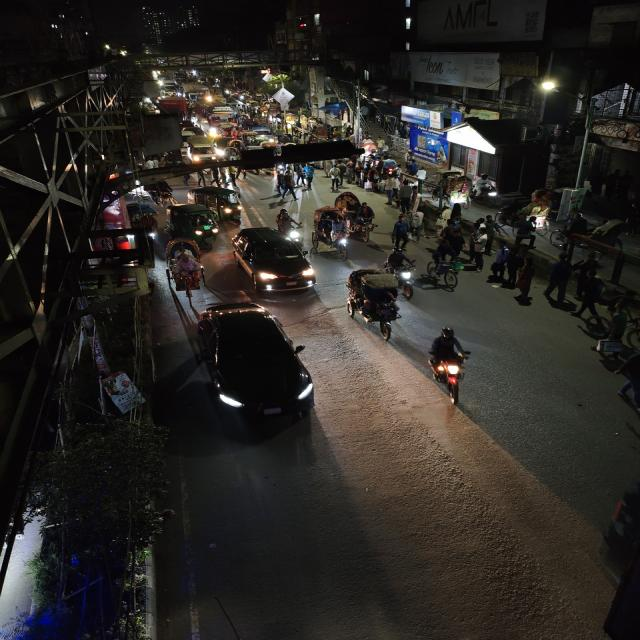bicycle: (423, 255, 460, 290)
bus: (202, 104, 236, 134)
car: (191, 300, 321, 430), (229, 226, 319, 296), (181, 124, 206, 138)
cng: (166, 202, 220, 244), (187, 184, 246, 220)
human_hauler: (187, 137, 219, 165)
motorcycle: (424, 324, 481, 409), (386, 250, 418, 296), (273, 206, 305, 242)
pedestrian: (609, 342, 640, 430), (586, 321, 640, 367), (573, 271, 610, 320), (543, 256, 575, 308), (512, 258, 542, 298), (487, 243, 512, 281), (512, 216, 540, 249), (498, 249, 524, 282), (389, 214, 411, 251), (408, 208, 430, 242), (398, 180, 420, 213), (467, 239, 488, 271), (325, 162, 346, 192), (382, 174, 399, 206), (446, 203, 465, 223), (362, 167, 376, 191)
rickshaw: (342, 266, 405, 342), (164, 241, 209, 299), (334, 190, 379, 244), (312, 204, 353, 256), (145, 178, 177, 208)
